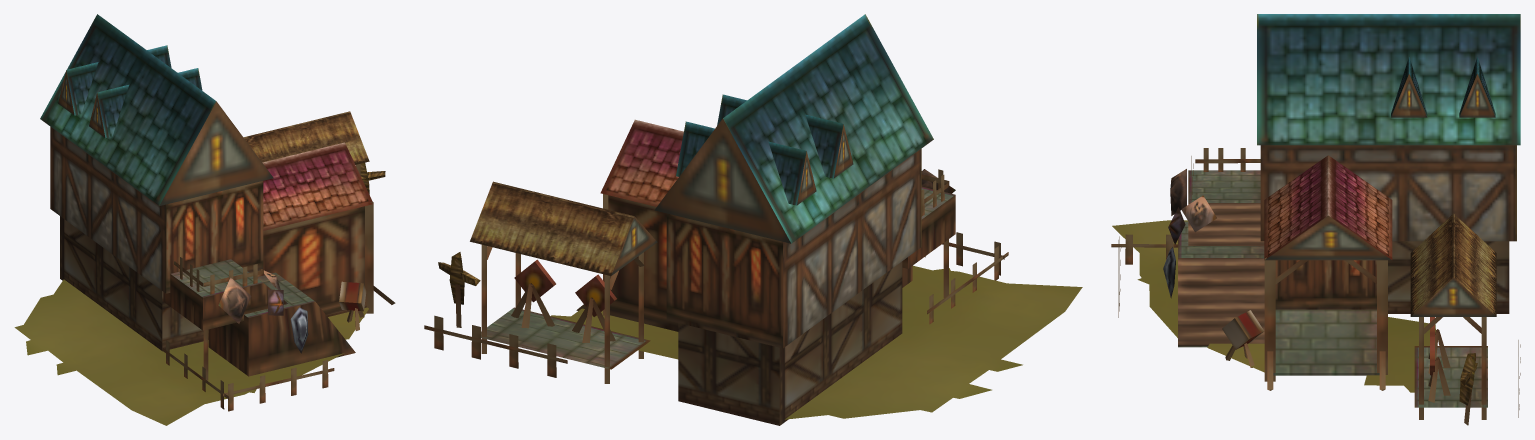
File: TrainingGround_Level02.FBX
The picture shows the model from 3 angles, left to right: view 1: azimuth 30°, elevation 25°; view 2: azimuth 150°, elevation 25°; view 3: azimuth 270°, elevation 25°; orthographic projection. The views are drawn at different scales.
Parts seen in each view (by area): view 1: TrainingGround_Level02; view 2: TrainingGround_Level02; view 3: TrainingGround_Level02.
Boxes of the visible parts, left/top/right/bottom form: TrainingGround_Level02: left=14, top=14, right=395, bottom=425; TrainingGround_Level02: left=424, top=14, right=1082, bottom=425; TrainingGround_Level02: left=1111, top=14, right=1520, bottom=425.
Size of the model in its own units: 996 by 605 by 777.
